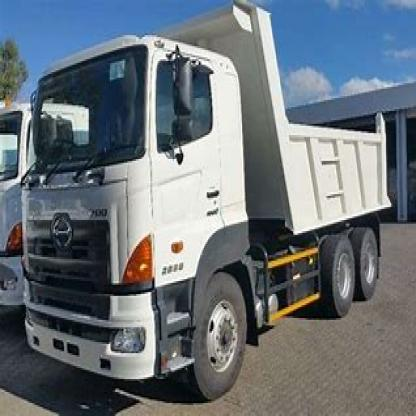dump_truck: (29, 6, 395, 398)
